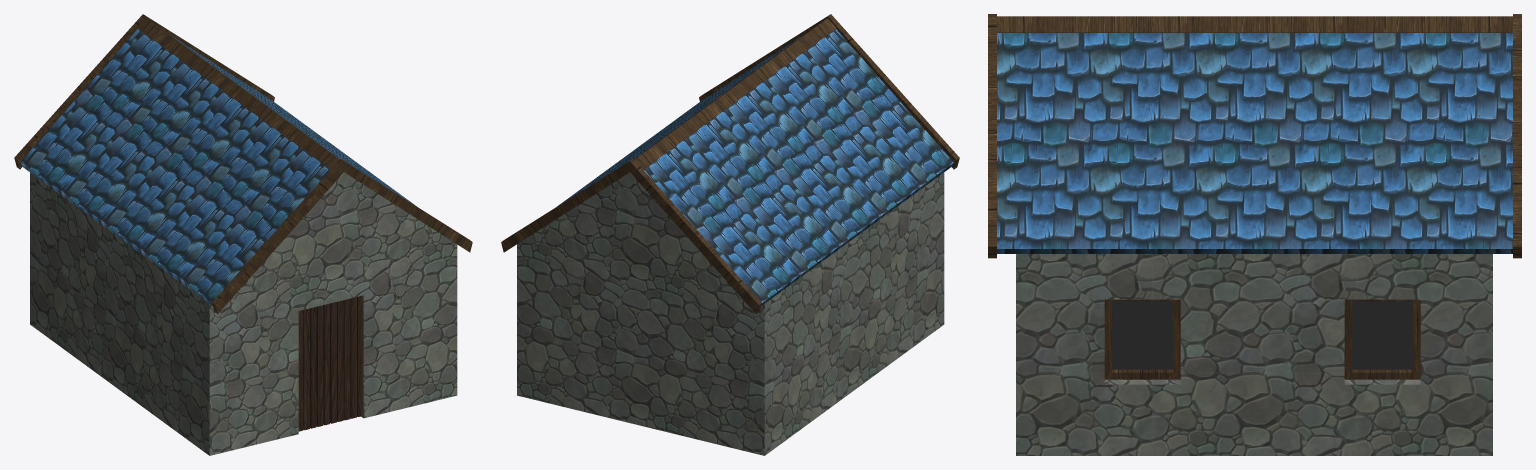
The model's file is CasaMoinho.fbx.
The picture shows the model from 3 angles, left to right: view 1: azimuth 30°, elevation 25°; view 2: azimuth 150°, elevation 25°; view 3: azimuth 270°, elevation 25°; orthographic projection. The views are drawn at different scales.
Visible parts, largest first — view 1: Casa Moinho, Casa Moinho.001, Casa Moinho.002, Casa Moinho Porta; view 2: Casa Moinho, Casa Moinho.001, Casa Moinho.002; view 3: Casa Moinho.001, Casa Moinho, Casa Moinho.002, Janela Casa Moinho.
Part boxes in pixels (bbox=[...]): Casa Moinho: bbox=[30, 172, 457, 455]; Casa Moinho.001: bbox=[20, 29, 416, 305]; Casa Moinho.002: bbox=[14, 14, 472, 313]; Casa Moinho Porta: bbox=[298, 295, 362, 431]; Casa Moinho: bbox=[517, 172, 944, 455]; Casa Moinho.001: bbox=[557, 29, 953, 305]; Casa Moinho.002: bbox=[501, 14, 959, 314]; Casa Moinho.001: bbox=[997, 33, 1512, 253]; Casa Moinho: bbox=[1016, 254, 1492, 455]; Casa Moinho.002: bbox=[988, 14, 1521, 258]; Janela Casa Moinho: bbox=[1104, 299, 1420, 379].
Bounding box in the file's own units: 707 × 714 × 955.
